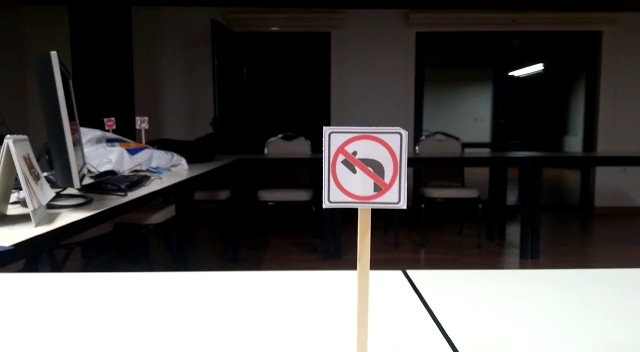sola_donulmez: (325, 135, 405, 204)
